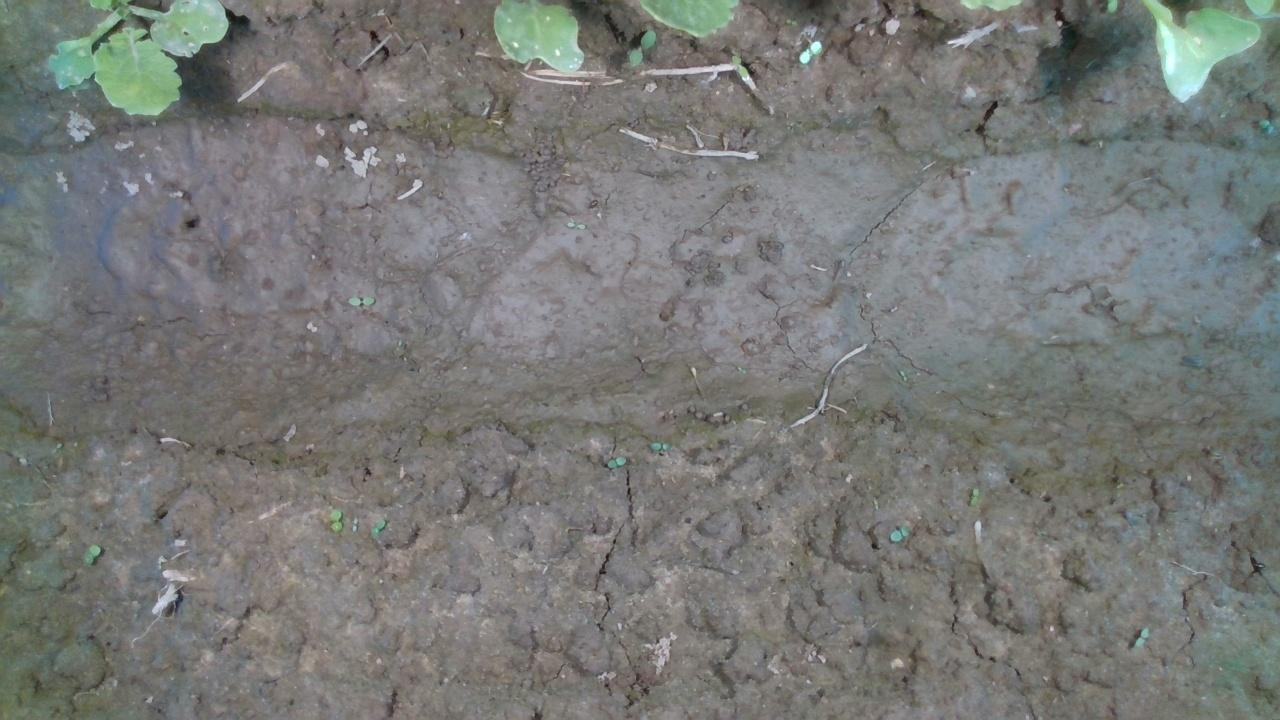weed: (339, 291, 382, 313), (325, 505, 346, 535), (80, 541, 102, 568), (1130, 621, 1152, 647), (886, 517, 906, 545), (605, 451, 628, 475), (564, 214, 588, 232), (967, 484, 981, 508), (645, 439, 667, 453), (367, 515, 379, 538)
